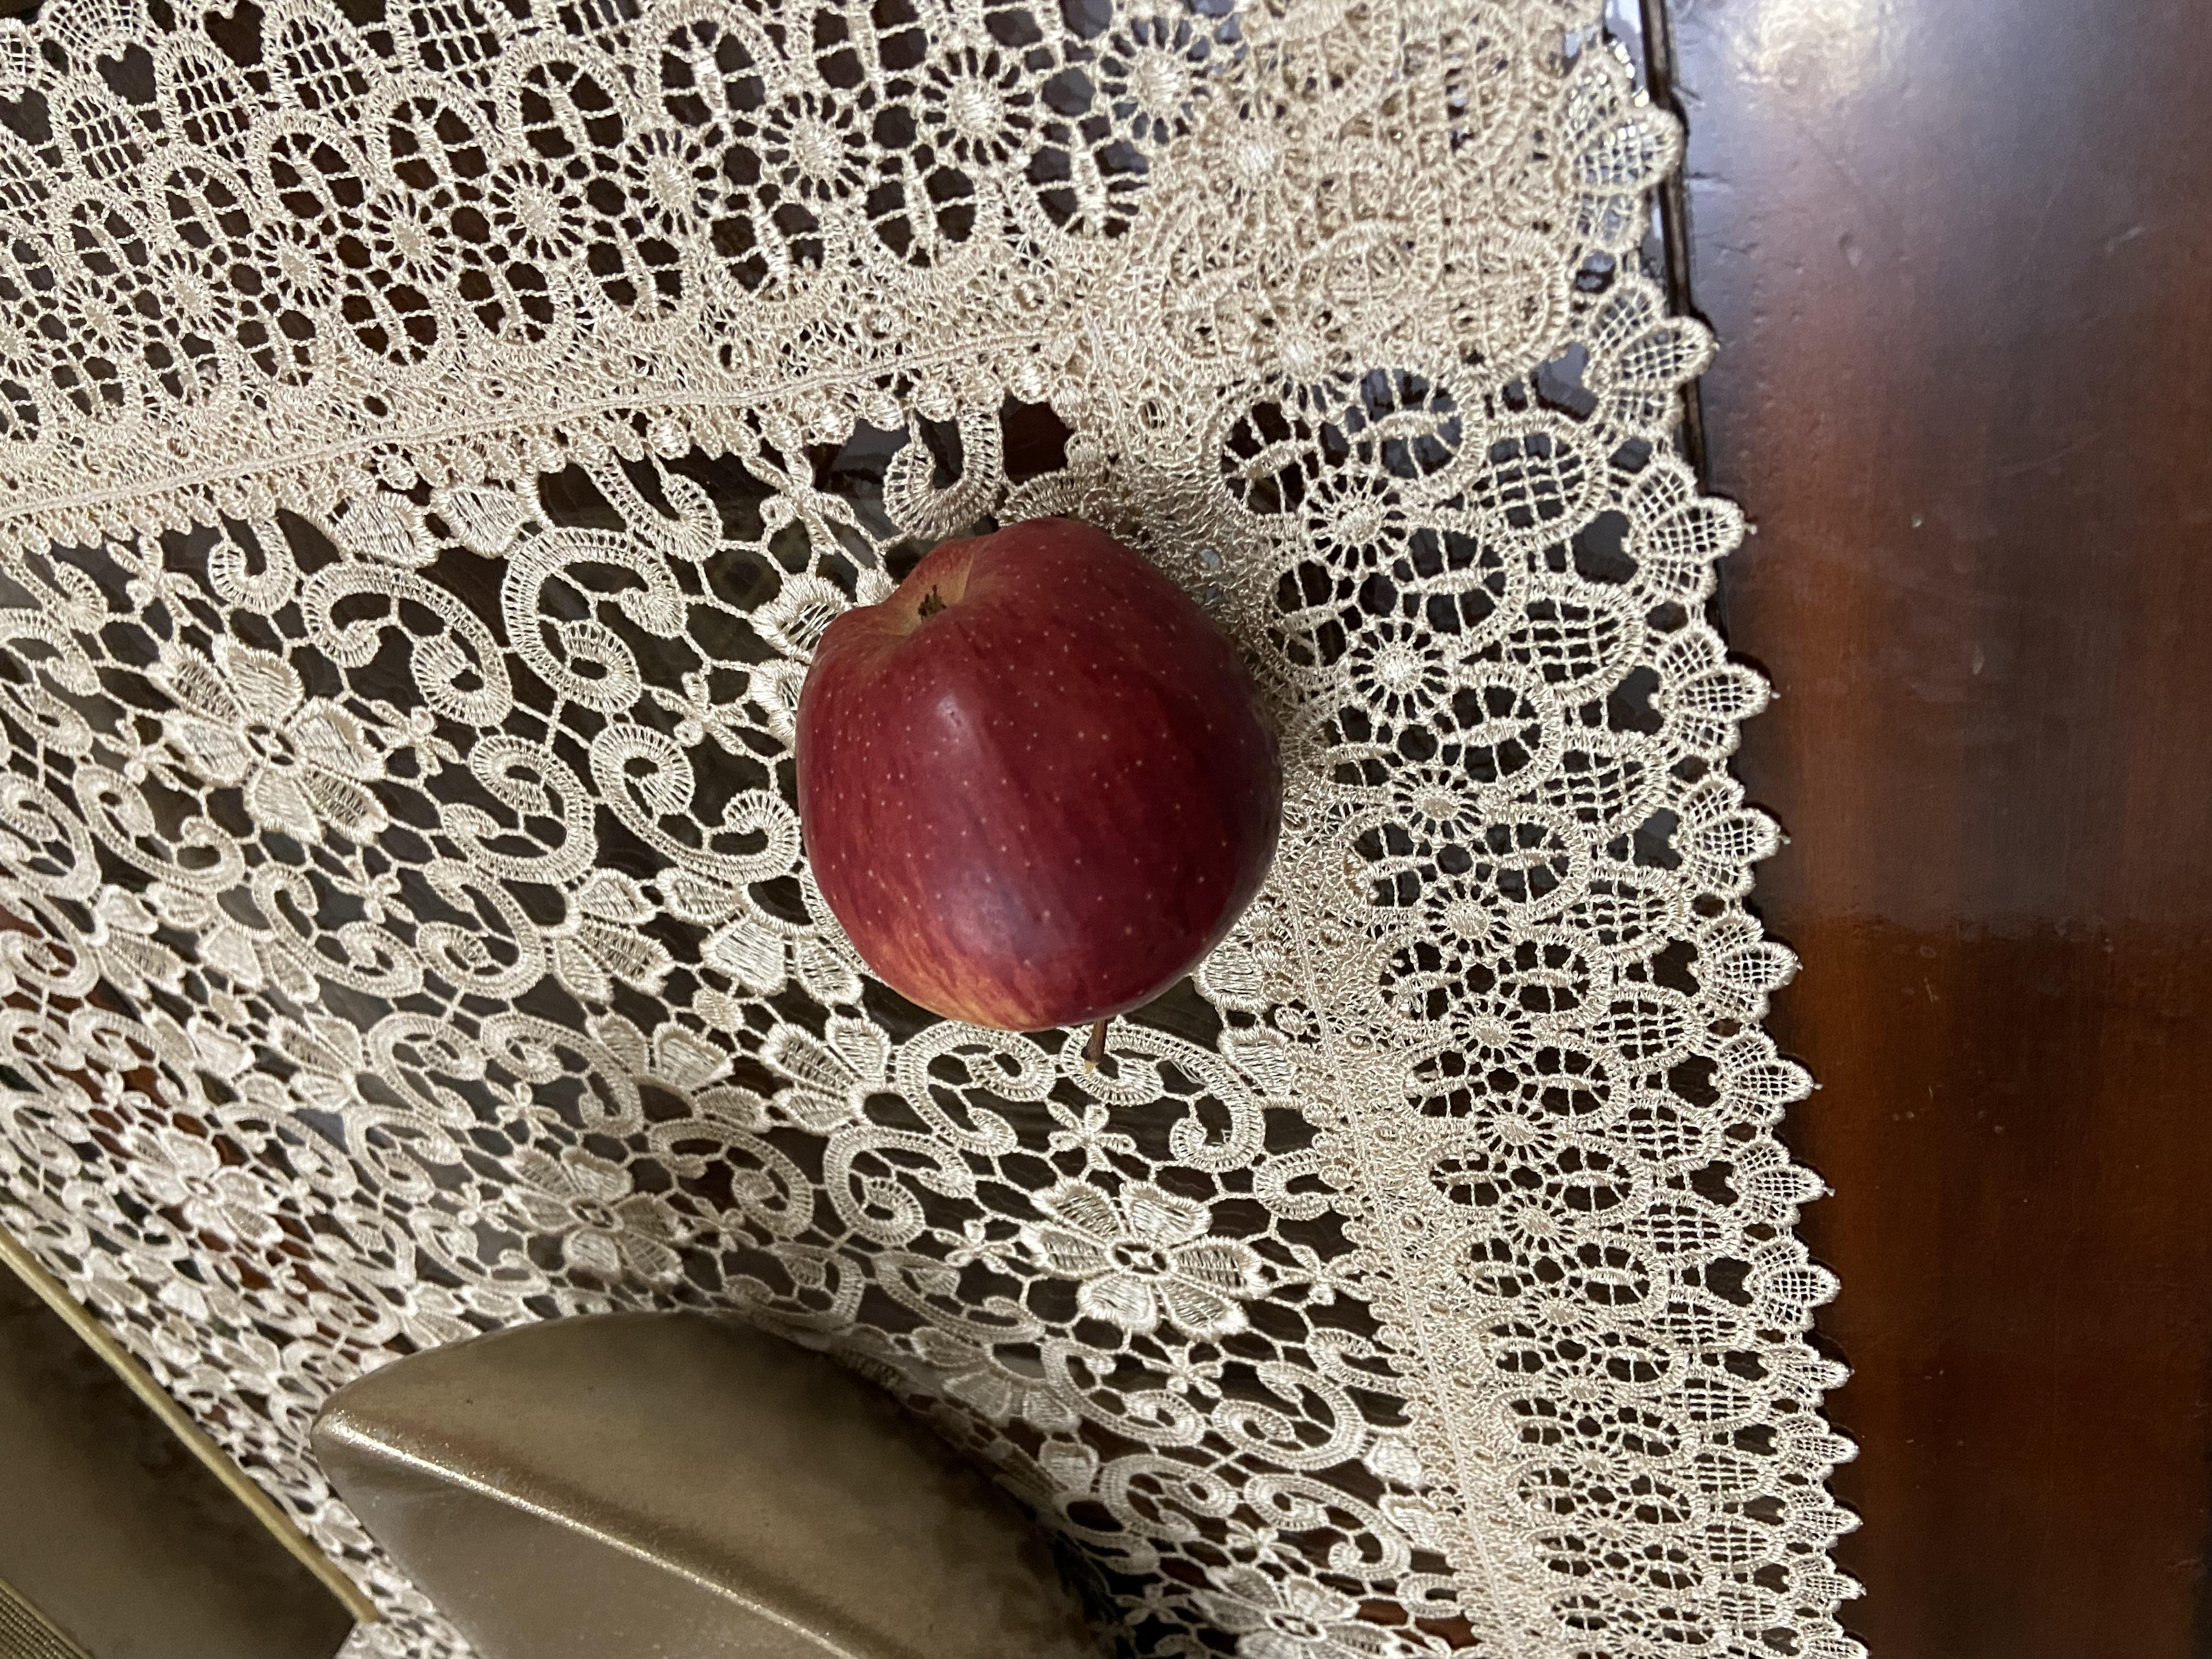Apple: (822, 584, 1545, 967)
